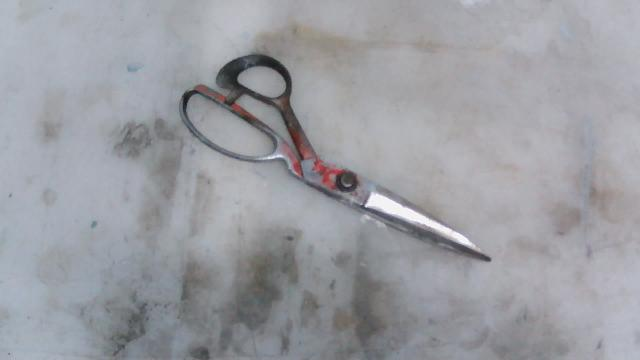gunting: (147, 21, 527, 315)
